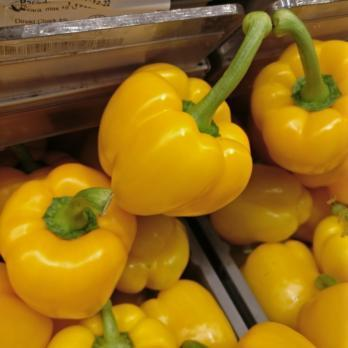Capsicum: (0, 158, 348, 348), (94, 59, 257, 222), (246, 25, 348, 176)
